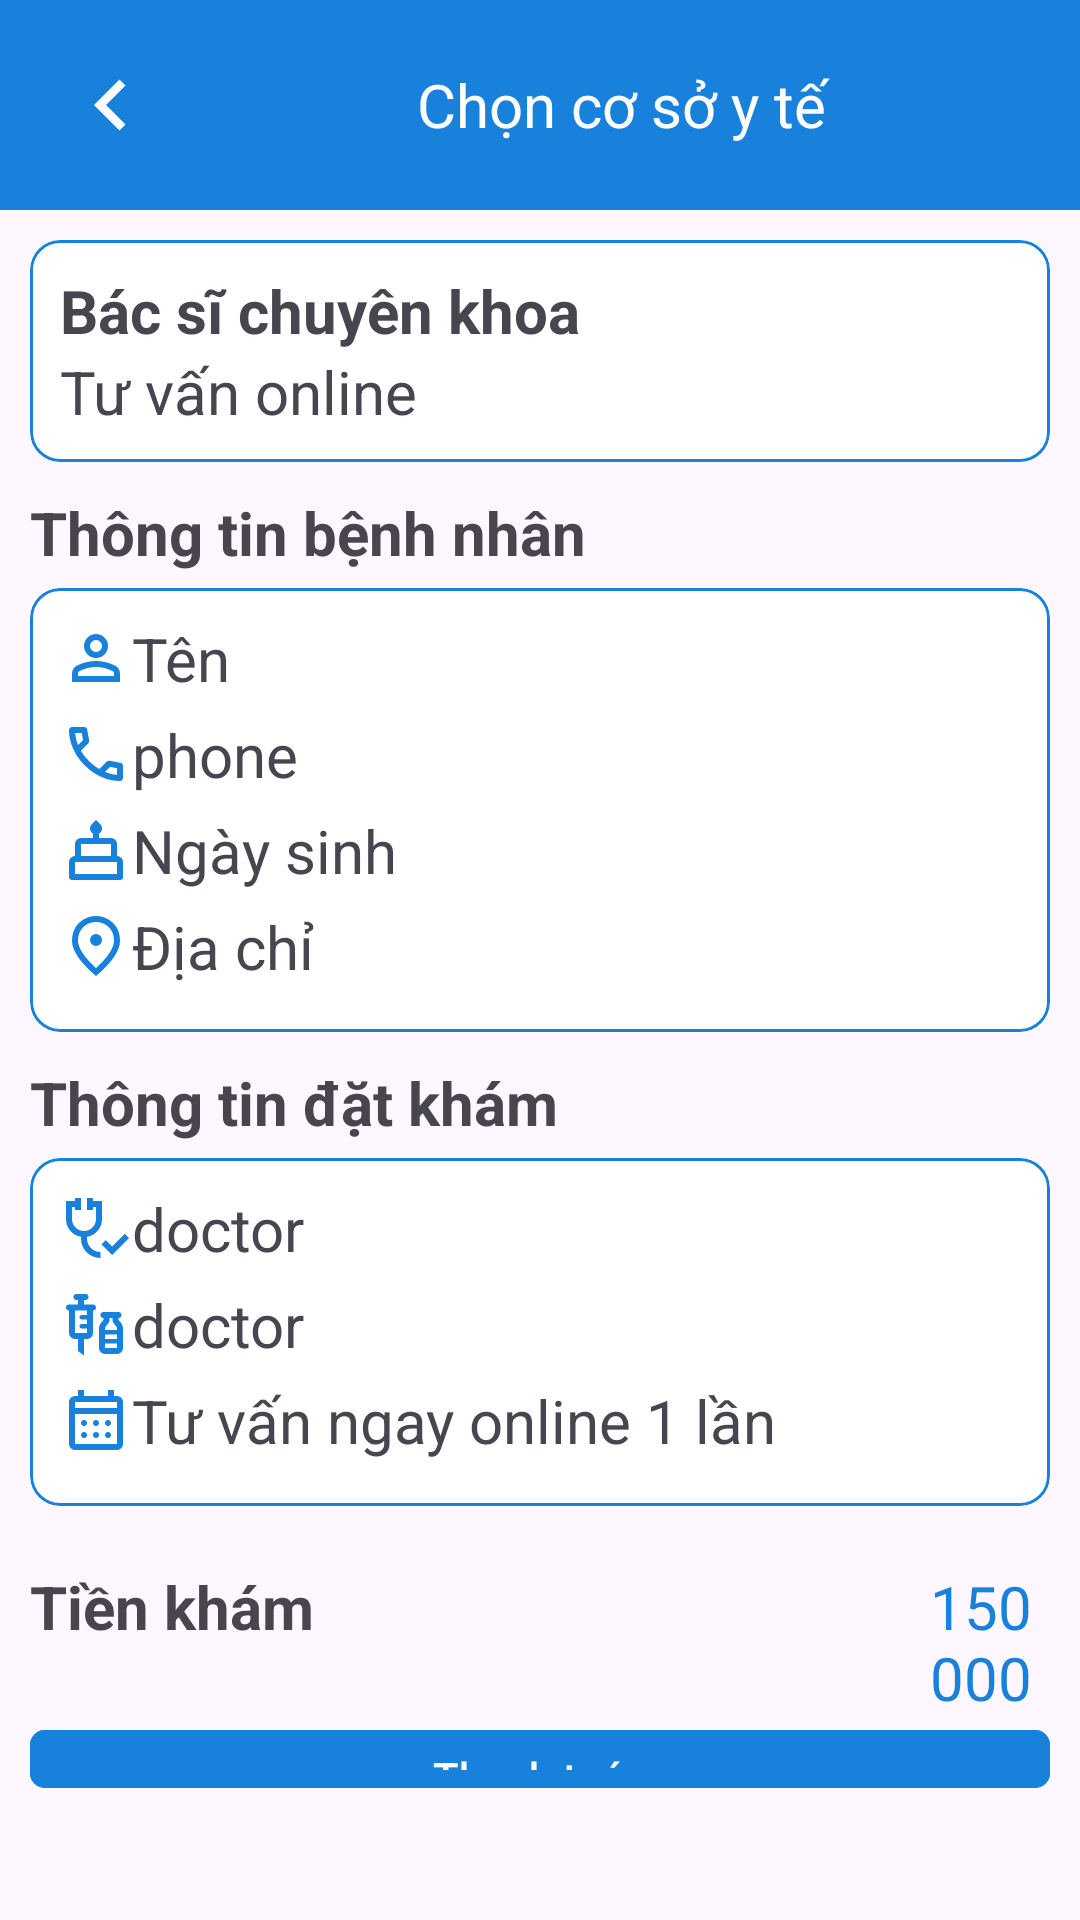

Point at icon controls on the screen. Image size 1080w x 1920h, points as (x=x, y=y).
leftback: (x=110, y=105)
